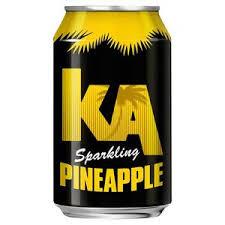can: (53, 6, 172, 218)
